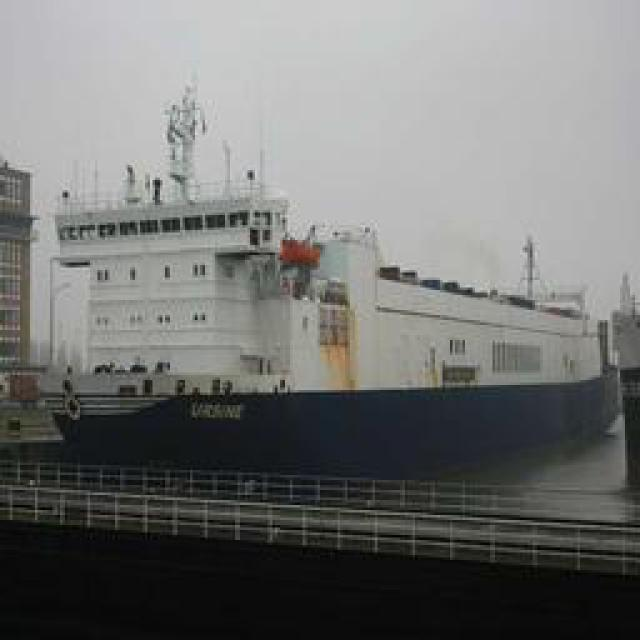Ship: (34, 163, 607, 438)
